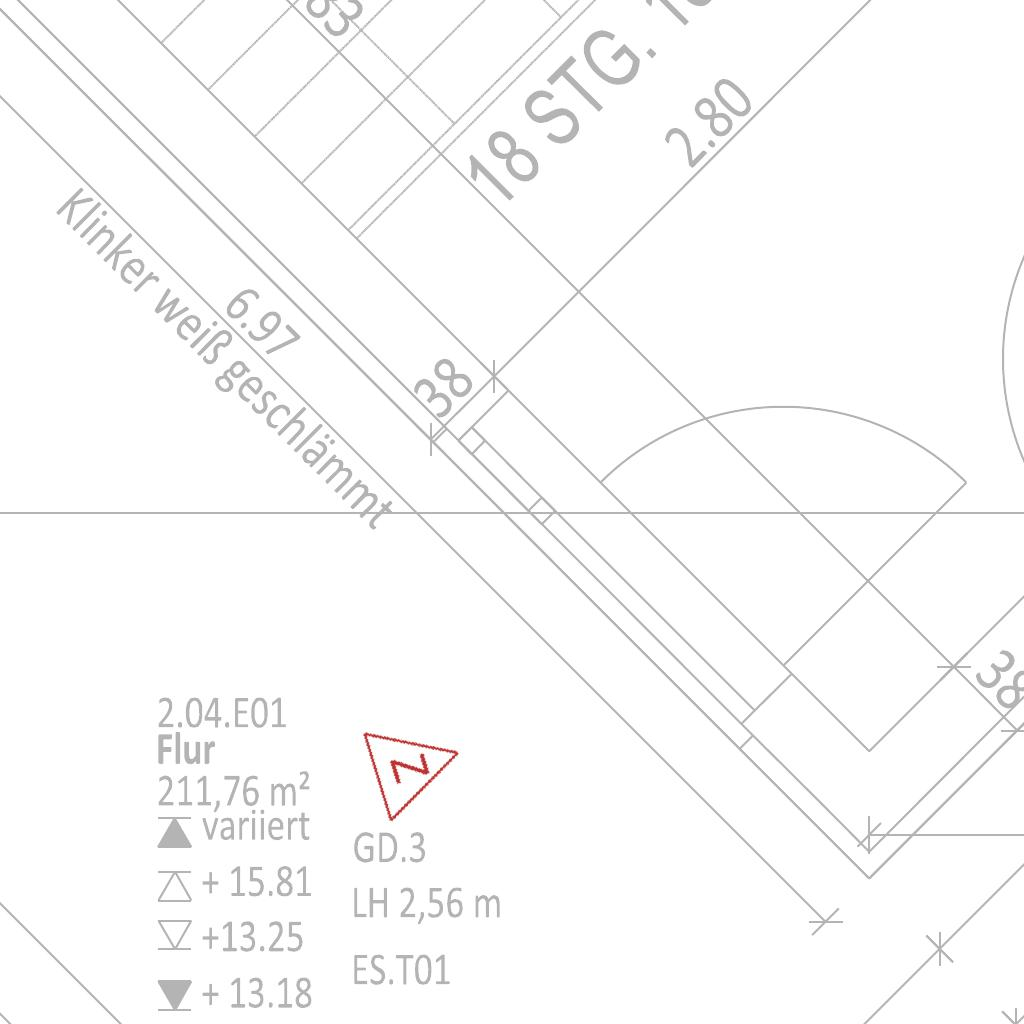Zimmersignalleuchte: (354, 702, 480, 826)
